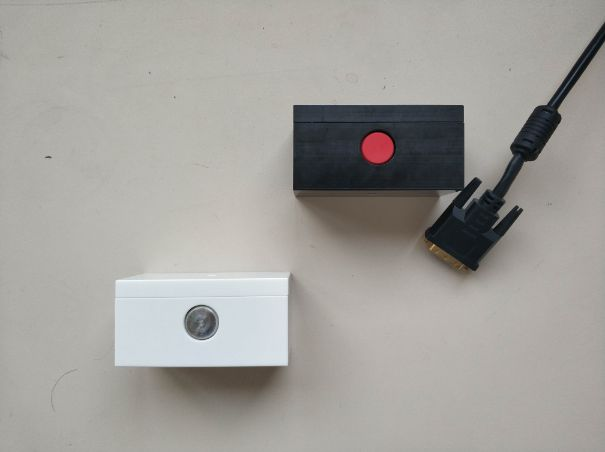black+black+red: (291, 101, 466, 194)
white+white+silver: (113, 269, 298, 372)
